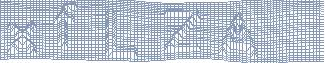A: (217, 12, 260, 60)
L: (103, 8, 139, 60)
Z: (162, 7, 203, 54)
f: (53, 1, 78, 49)
x: (6, 20, 39, 57)
